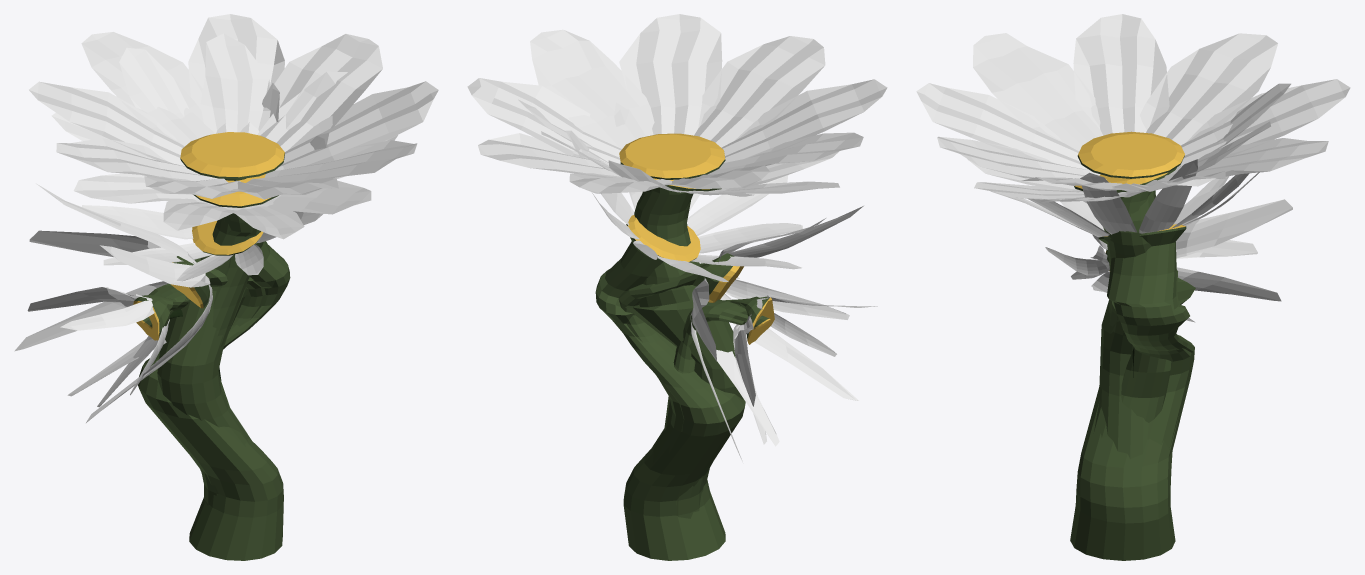
The picture shows the model from 3 angles, left to right: view 1: azimuth 30°, elevation 25°; view 2: azimuth 150°, elevation 25°; view 3: azimuth 270°, elevation 25°; orthographic projection.
Parts seen in each view (by area): view 1: Flower, Flower.001, Stem.002, Stem, Flower.003, Flower.002, Flower.004, Stem.001, Stem.003, Stem.004, Stem.006; view 2: Flower, Stem.002, Stem, Flower.003, Flower.002, Stem.003, Flower.001, Flower.004, Stem.006, Stem.004; view 3: Flower, Stem.002, Stem, Flower.002, Flower.003, Flower.001, Stem.003, Stem.006, Stem.001, Flower.004.
Boxes of the visible parts, <box> form: Flower: <box>29,14,438,199</box>; Flower.001: <box>51,33,397,239</box>; Stem.002: <box>138,221,290,560</box>; Stem: <box>157,132,284,505</box>; Flower.003: <box>14,183,212,422</box>; Flower.002: <box>82,83,329,281</box>; Flower.004: <box>27,287,168,407</box>; Stem.001: <box>193,174,278,387</box>; Stem.003: <box>171,256,265,446</box>; Stem.004: <box>133,295,189,340</box>; Stem.006: <box>141,283,229,406</box>; Flower: <box>467,14,887,193</box>; Stem.002: <box>595,215,745,560</box>; Stem: <box>619,133,743,518</box>; Flower.003: <box>690,206,863,461</box>; Flower.002: <box>565,102,802,281</box>; Stem.003: <box>618,253,743,464</box>; Flower.001: <box>518,99,839,196</box>; Flower.004: <box>733,295,877,444</box>; Stem.006: <box>664,299,770,430</box>; Stem.004: <box>675,296,774,352</box>; Flower: <box>916,14,1350,192</box>; Stem.002: <box>1070,224,1194,560</box>; Stem: <box>1077,131,1195,458</box>; Flower.002: <box>990,159,1259,237</box>; Flower.003: <box>1045,199,1292,322</box>; Flower.001: <box>967,83,1290,202</box>; Stem.003: <box>1094,249,1191,449</box>; Stem.006: <box>1121,350,1171,422</box>; Stem.001: <box>1074,166,1178,375</box>; Flower.004: <box>1071,240,1257,279</box>.
Bounding box in the file's own units: 735 × 858 × 759.
